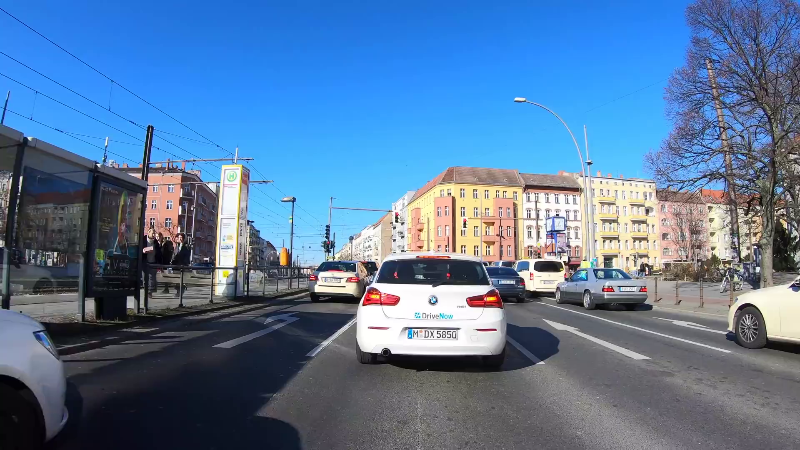Plate: (405, 327, 458, 340), (617, 284, 637, 292), (322, 276, 343, 283), (542, 278, 559, 286), (497, 279, 516, 285)
